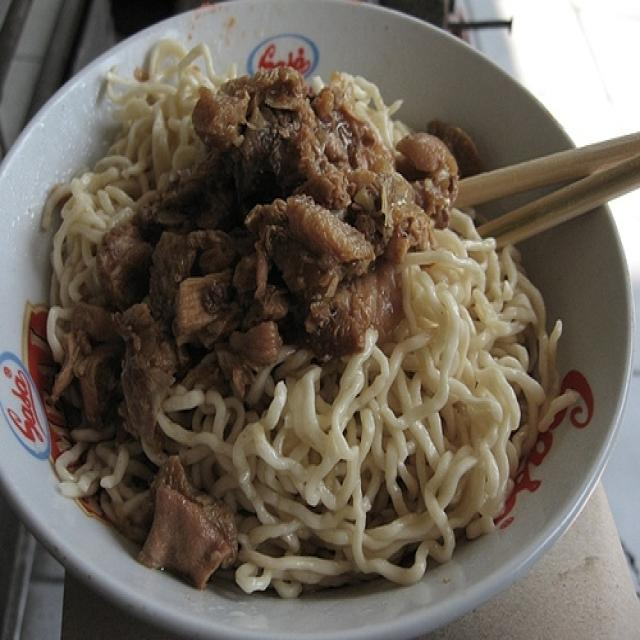面条主食: (27, 12, 589, 575)
